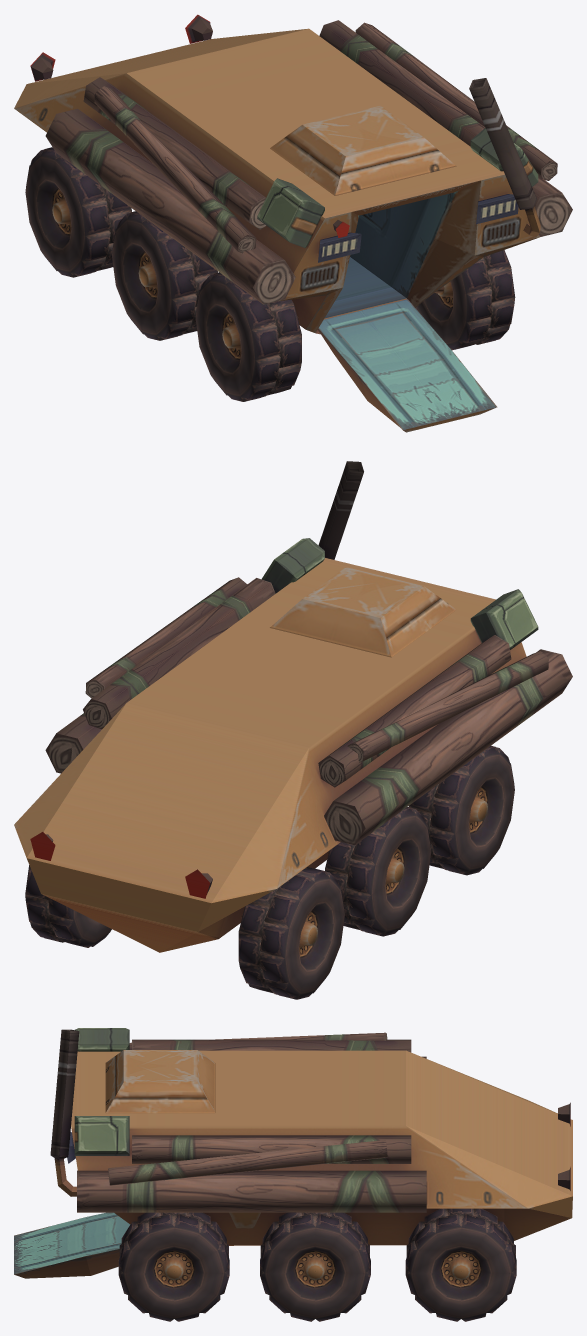
Rendered from APC.FBX.
The picture shows the model from 3 angles, top to bottom: view 1: azimuth 30°, elevation 25°; view 2: azimuth 150°, elevation 25°; view 3: azimuth 270°, elevation 25°; orthographic projection. The views are drawn at different scales.
Parts seen in each view (by area): view 1: APCBody, APCDoor; view 2: APCBody; view 3: APCBody, APCDoor.
Part boxes in pixels (x1=…): APCBody: x1=14, y1=14, x2=572, y2=401; APCDoor: x1=318, y1=299, x2=497, y2=432; APCBody: x1=14, y1=461, x2=572, y2=999; APCBody: x1=50, y1=1028, x2=572, y2=1321; APCDoor: x1=14, y1=1212, x2=130, y2=1278.
Size of the model in its own units: 150 by 140 by 265.
Materials: 1 (1 with a texture image).
